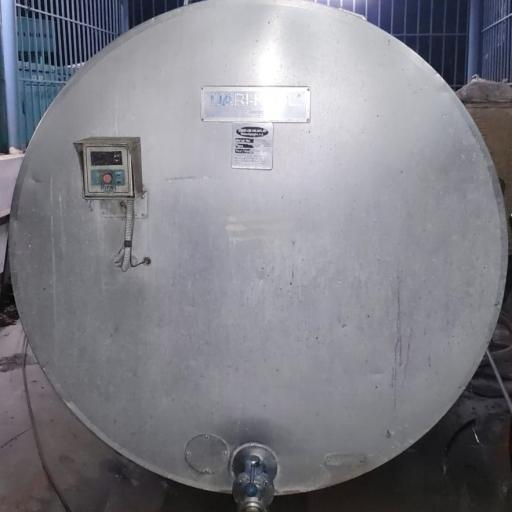silo: (3, 1, 510, 499)
